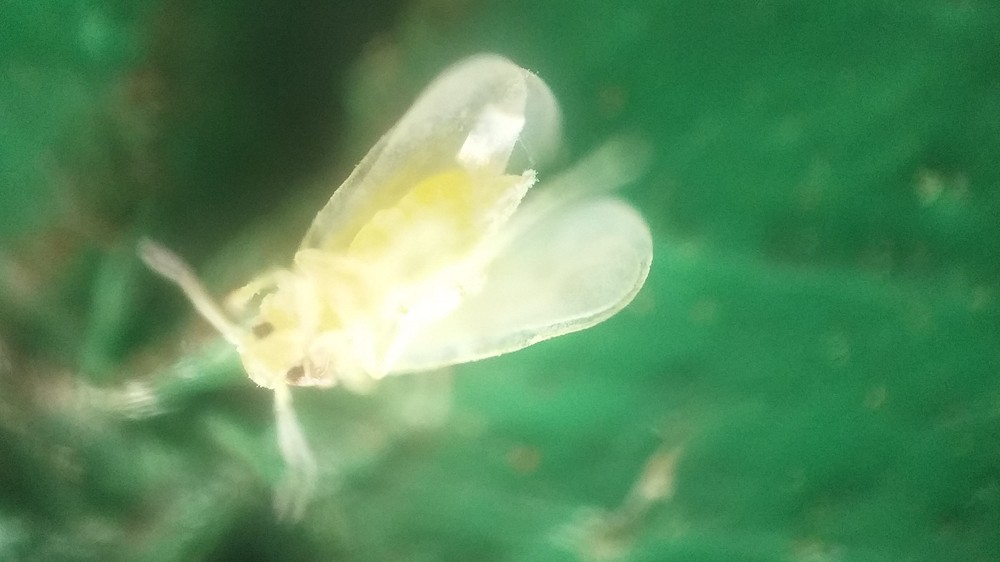Mosca Blanca: (133, 46, 680, 531)
